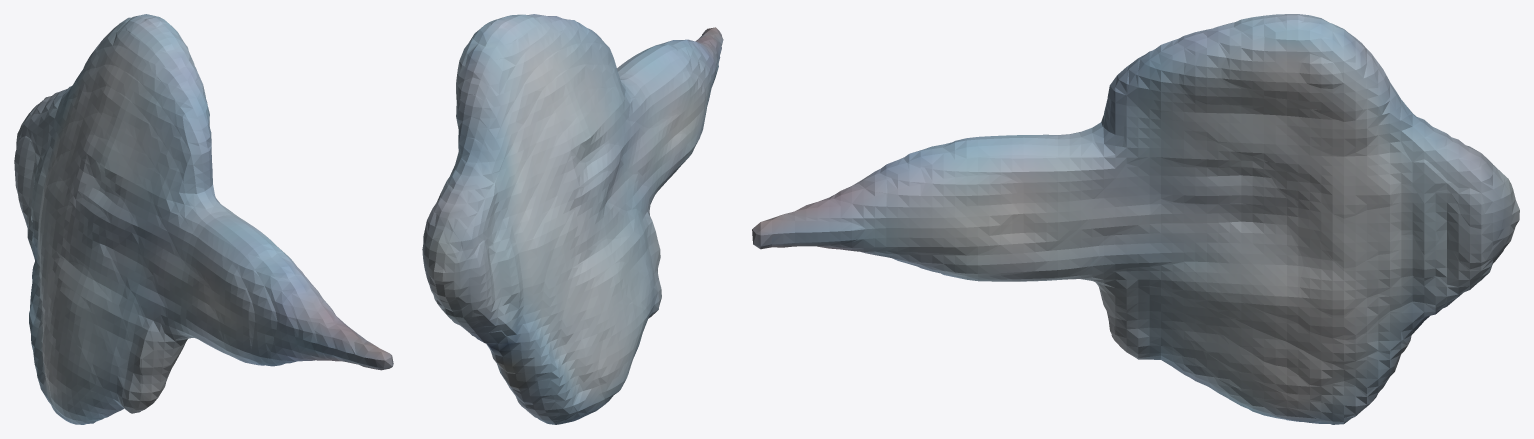
The picture shows the model from 3 angles, left to right: view 1: azimuth 30°, elevation 25°; view 2: azimuth 150°, elevation 25°; view 3: azimuth 270°, elevation 25°; orthographic projection. The views are drawn at different scales.
Visible parts, largest first — view 1: world; view 2: world; view 3: world.
Boxes of the visible parts, <box> form: world: <box>14,14,393,424</box>; world: <box>422,14,723,424</box>; world: <box>752,14,1519,424</box>.
Bounding box in the file's own units: 0.1098 × 0.2965 × 0.4579.
